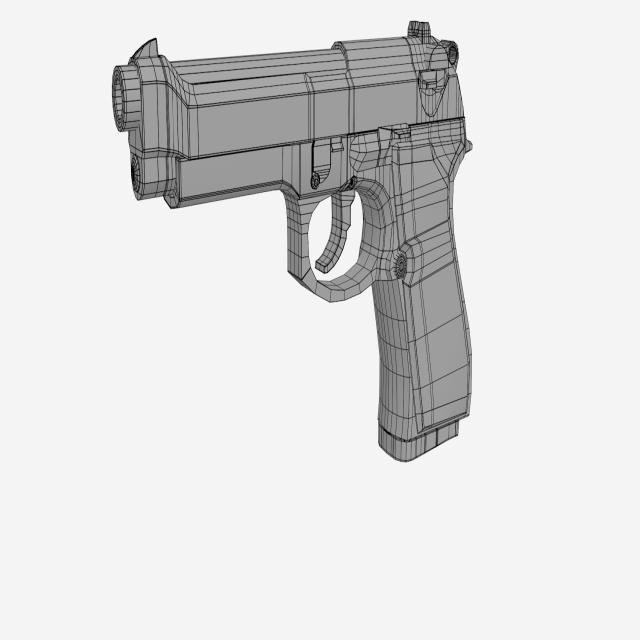Gun: (105, 13, 517, 495)
